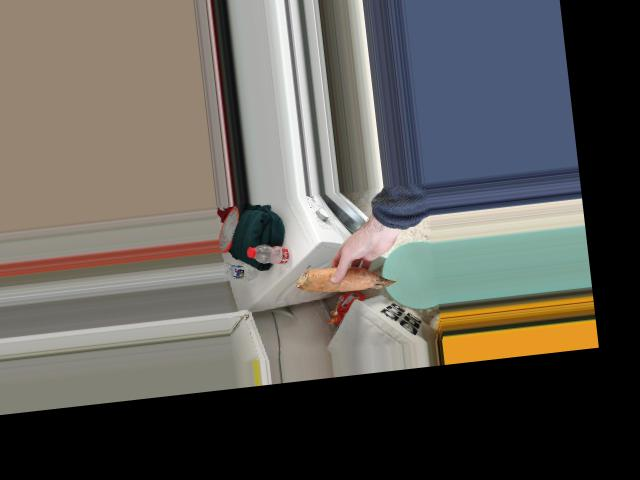sweet_potato: (304, 254, 393, 295)
